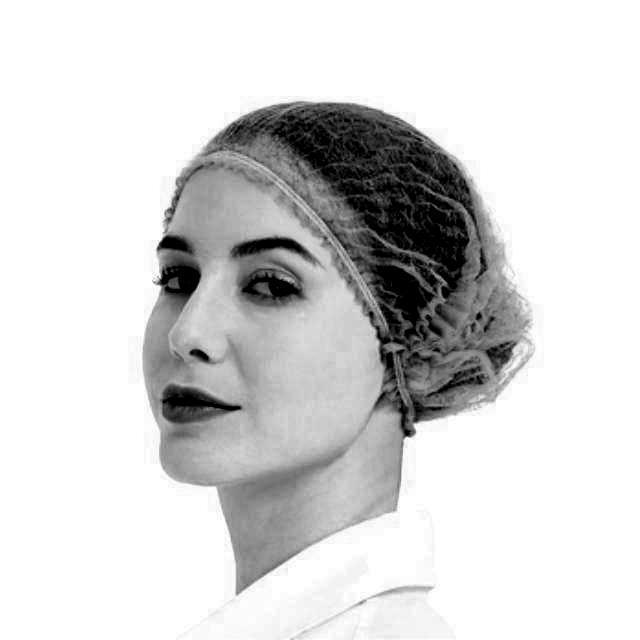gloves: (318, 95, 548, 403)
